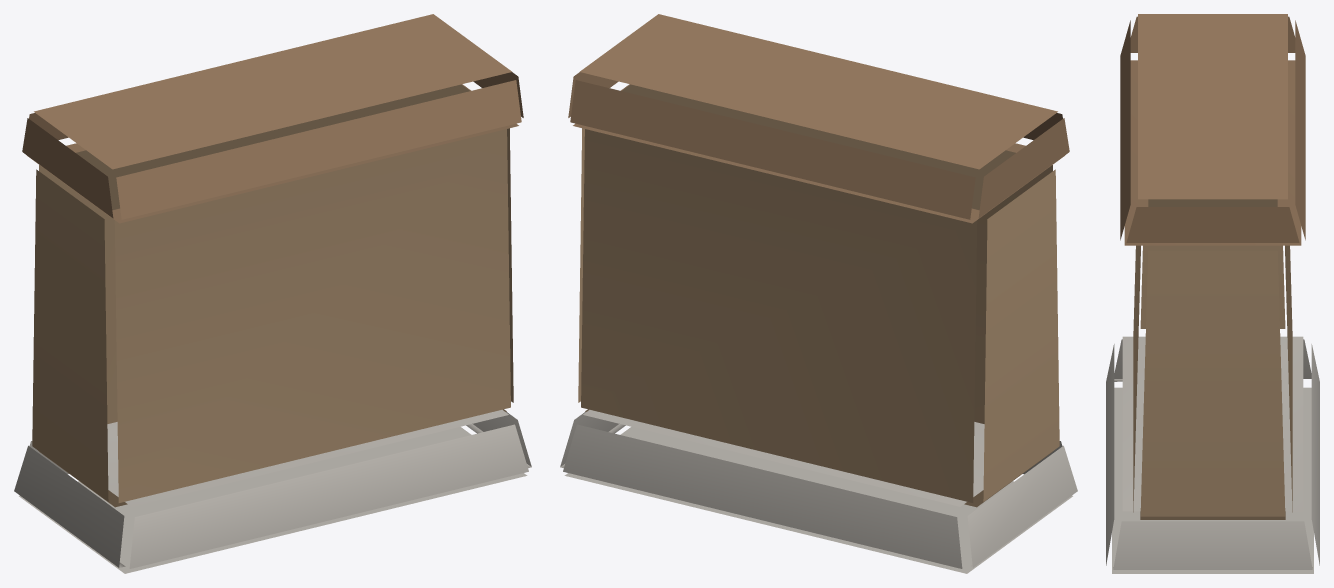
Rendered from wall_lv0_connector_lod2.glb.
3 views of the same model, side by side, from view 1: azimuth 30°, elevation 25°; view 2: azimuth 150°, elevation 25°; view 3: azimuth 270°, elevation 25° (orthographic). The views are drawn at different scales.
Visible parts, largest first — view 1: wall_lv0_connector.001; view 2: wall_lv0_connector.001; view 3: wall_lv0_connector.001.
Boxes of the visible parts, x1,y1,x2,y2 form: wall_lv0_connector.001: [14, 14, 531, 573]; wall_lv0_connector.001: [560, 14, 1077, 573]; wall_lv0_connector.001: [1106, 14, 1319, 573].
Bounding box in the file's own units: 1.59 × 1.45 × 0.7515.
